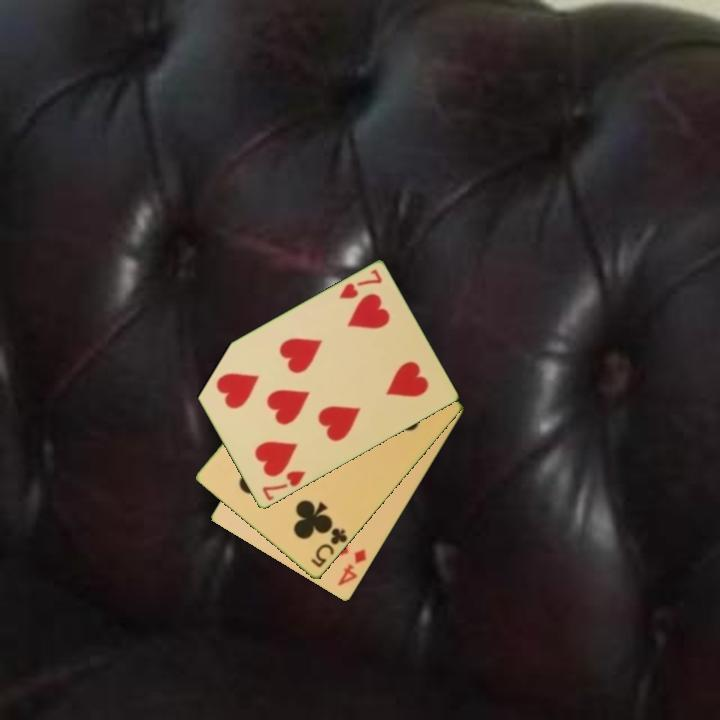4d: (334, 546, 369, 589)
5c: (307, 524, 350, 571)
7h: (259, 467, 308, 504), (335, 266, 385, 302)
